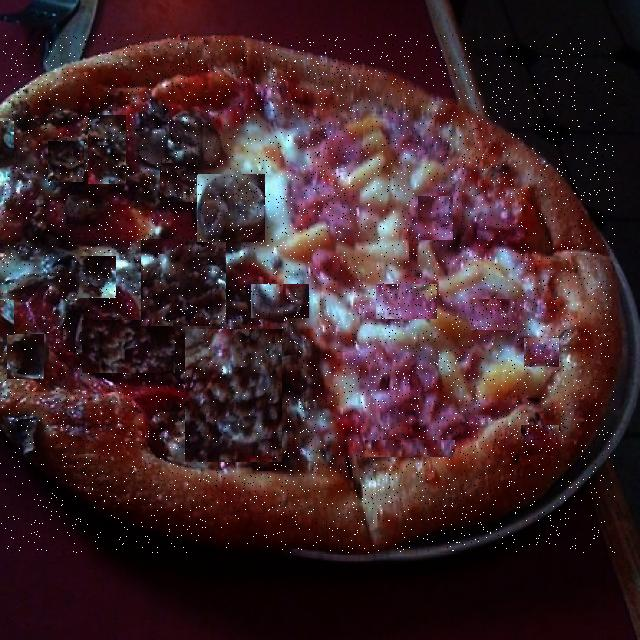Beef: (185, 330, 284, 462), (141, 240, 226, 326), (82, 321, 175, 373), (88, 116, 126, 184), (77, 257, 116, 298), (160, 164, 198, 202), (48, 142, 84, 182), (66, 196, 109, 224)
Ham: (302, 132, 353, 228), (354, 356, 435, 406), (360, 409, 472, 438), (376, 285, 437, 319), (418, 198, 453, 242), (365, 441, 455, 457), (471, 300, 517, 330), (478, 207, 510, 243), (521, 426, 559, 456), (524, 339, 559, 367)
Mushrooms: (197, 176, 265, 243), (251, 285, 309, 318), (7, 335, 44, 379), (4, 412, 36, 451), (0, 301, 14, 342), (0, 122, 14, 158)
Pizza: (0, 34, 615, 553)
